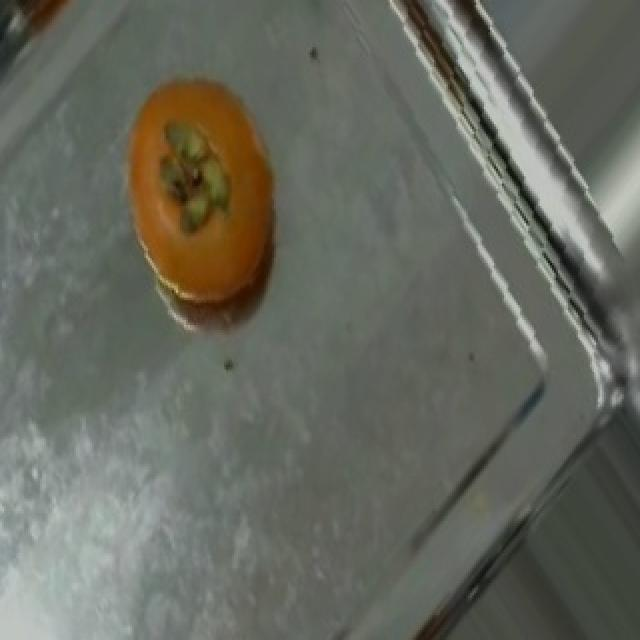Fruit: (100, 62, 302, 327)
